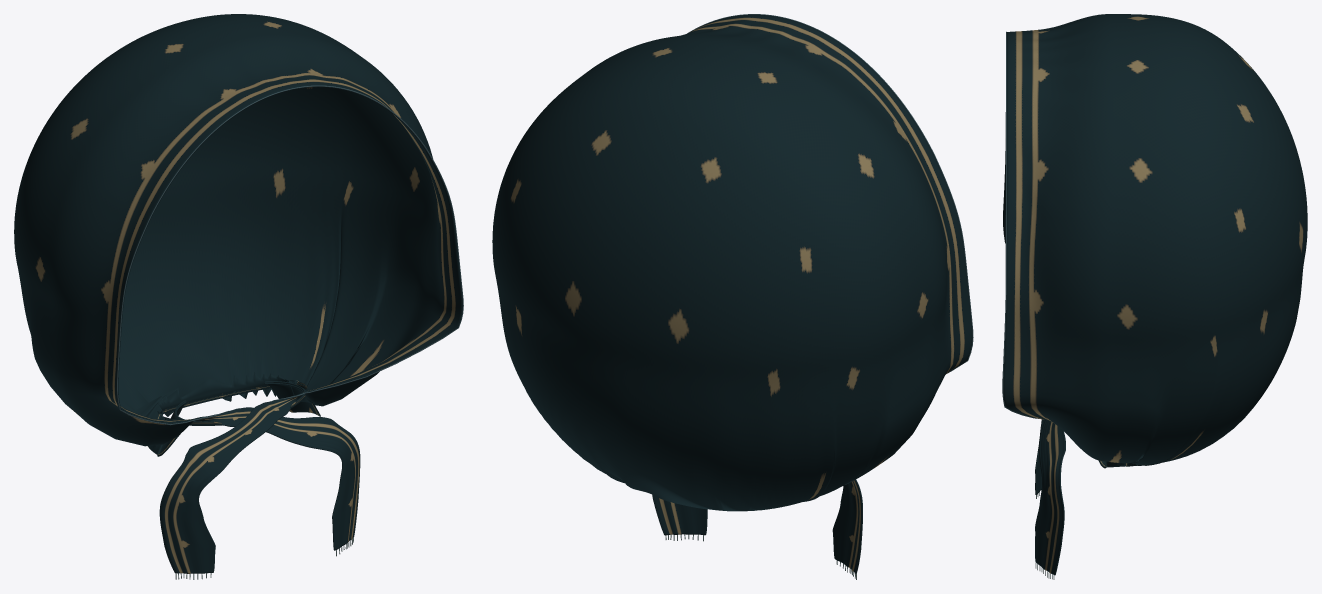
The model's file is Masculine-buzz-buttonup-pashmina250-headgear.glb.
3 renders of one model, left to right at view 1: azimuth 30°, elevation 25°; view 2: azimuth 150°, elevation 25°; view 3: azimuth 270°, elevation 25°, orthographic. The views are drawn at different scales.
Parts seen in each view (by area): view 1: 226 headgear / Headwear / continuous woven pashmina239, 226 headgear / Headwear / face edge239; view 2: 226 headgear / Headwear / continuous woven pashmina239, 226 headgear / Headwear / face edge239; view 3: 226 headgear / Headwear / continuous woven pashmina239, 226 headgear / Headwear / face edge239.
Part boxes in pixels (bbox=[...]): 226 headgear / Headwear / continuous woven pashmina239: bbox=[14, 14, 462, 573]; 226 headgear / Headwear / face edge239: bbox=[117, 85, 463, 425]; 226 headgear / Headwear / continuous woven pashmina239: bbox=[492, 14, 972, 573]; 226 headgear / Headwear / face edge239: bbox=[687, 14, 973, 373]; 226 headgear / Headwear / continuous woven pashmina239: bbox=[1003, 14, 1307, 575]; 226 headgear / Headwear / face edge239: bbox=[1002, 31, 1038, 418].
Size of the model in its own units: 1.07 by 1.37 by 0.7558.
3 materials, 1 textured.
